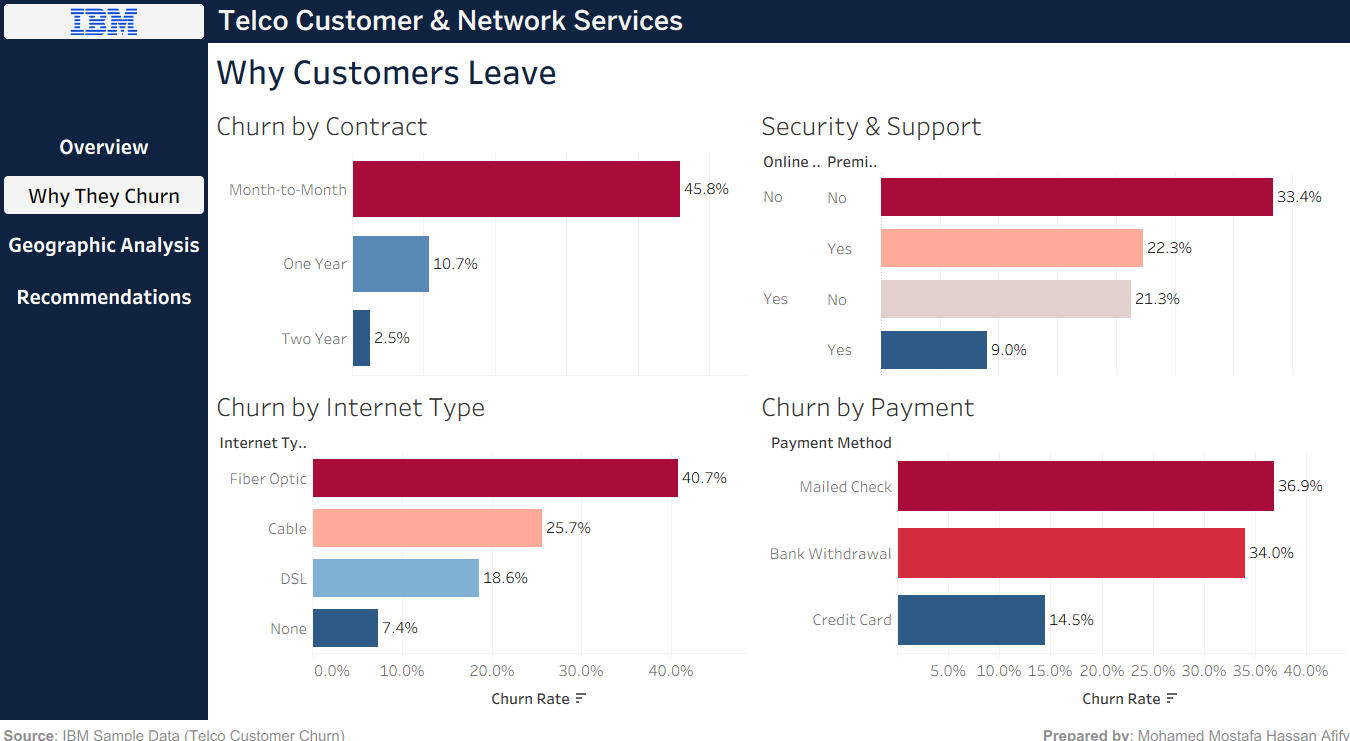

Layout of this report page (visuals, bound fields, positions):
{"tool":"tableau","page":{"name":"Why They Churn","canvas":[1366,768],"ordinal":3},"visuals":[{"type":"image","param":"C:/Users/moham/Downloads/ibm-logo_brandlogos.net_ahkkf.png","box":[8,8,208,43.1]},{"type":"text","box":[216,8,1142,43.1]},{"type":"blank","box":[8,51.1,208,77]},{"type":"text","box":[216,51.1,1142,54.6]},{"type":"worksheet","title":"Churn by Contract","mark":"Automatic","rows":["Contract"],"cols":["Calculation_1409875497193473"],"box":[216,105.7,545,281.5]},{"type":"worksheet","title":"Security & Support","mark":"Automatic","rows":["Online_Security","Premium_Tech_Support"],"cols":["Calculation_1409875497193473"],"box":[761,105.7,597,281.5]},{"type":"dashboard-object","box":[8,128.1,208,52]},{"type":"text","box":[8,180.1,208,46]},{"type":"dashboard-object","box":[8,226.1,208,52]},{"type":"dashboard-object","box":[8,278.1,208,52]},{"type":"worksheet","title":"Churn by Internet Type","mark":"Automatic","rows":["Internet_Type"],"cols":["Calculation_1409875497193473"],"box":[216,387.1,545,340.9]},{"type":"worksheet","title":"Churn by Payment","mark":"Automatic","rows":["Payment_Method"],"cols":["Calculation_1409875497193473"],"box":[761,387.1,597,340.9]},{"type":"text","box":[8,728,1350,32]}]}

Visuals, with their boxes in screenshot pixels (x1, y1, x2, y2), scaled from the page's 1366x768 canvas onto the 1350x741 screenshot:
image: bbox=(8, 8, 213, 49)
text: bbox=(213, 8, 1342, 49)
blank: bbox=(8, 49, 213, 124)
text: bbox=(213, 49, 1342, 102)
"Churn by Contract" worksheet: bbox=(213, 102, 752, 374)
"Security & Support" worksheet: bbox=(752, 102, 1342, 374)
dashboard-object: bbox=(8, 124, 213, 174)
text: bbox=(8, 174, 213, 218)
dashboard-object: bbox=(8, 218, 213, 268)
dashboard-object: bbox=(8, 268, 213, 318)
"Churn by Internet Type" worksheet: bbox=(213, 373, 752, 702)
"Churn by Payment" worksheet: bbox=(752, 373, 1342, 702)
text: bbox=(8, 702, 1342, 733)
